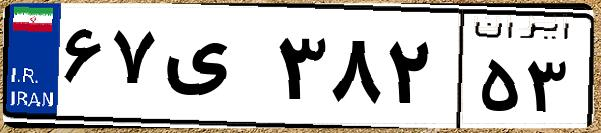2: (385, 28, 445, 110)
3: (270, 28, 330, 110), (525, 38, 570, 115)
5: (475, 38, 525, 113)
6: (57, 26, 110, 100)
7: (110, 28, 158, 98)
8: (330, 28, 385, 110)
ی: (158, 20, 270, 120)
